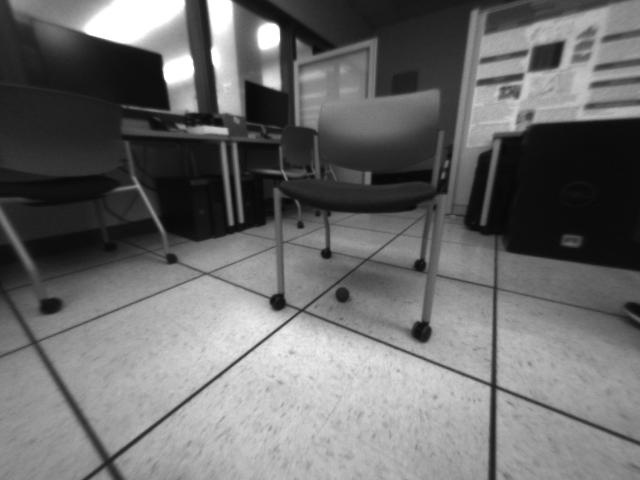dogtoy: (328, 282, 358, 307)
